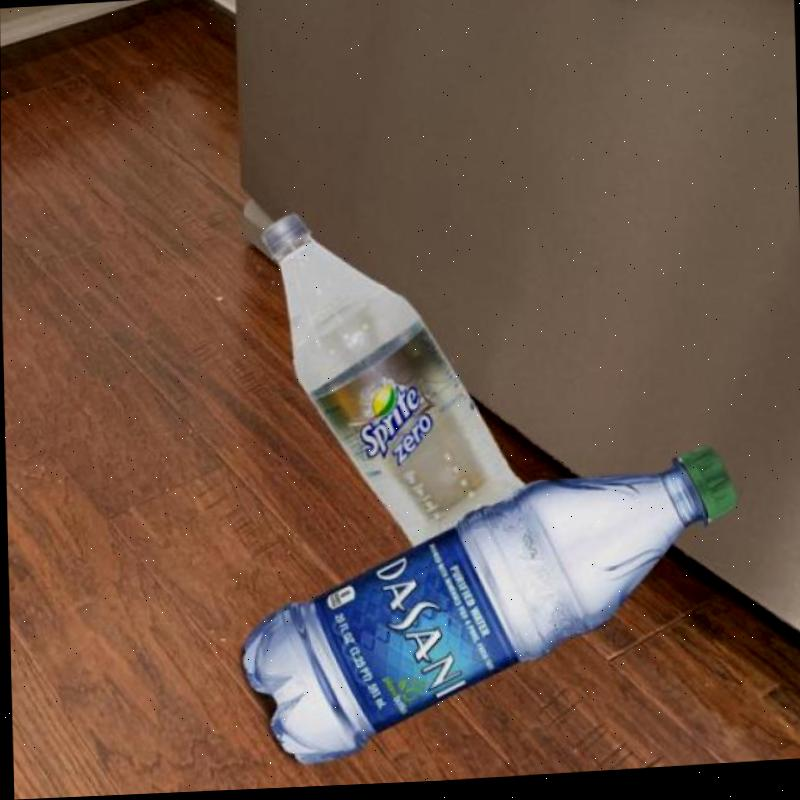botella: (237, 450, 743, 771), (254, 201, 526, 560)
